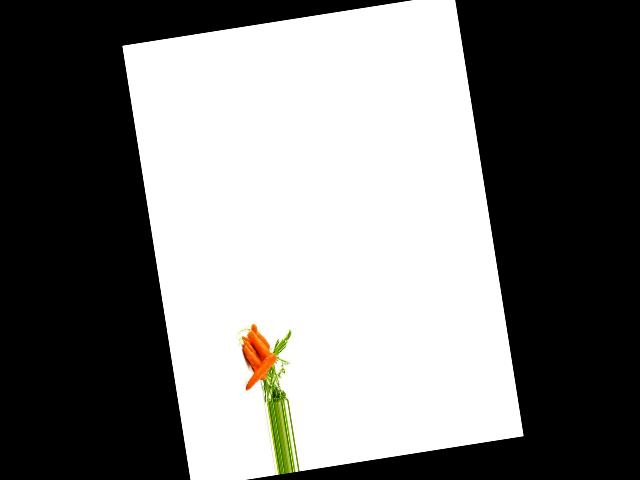carrot: (242, 336, 268, 384)
